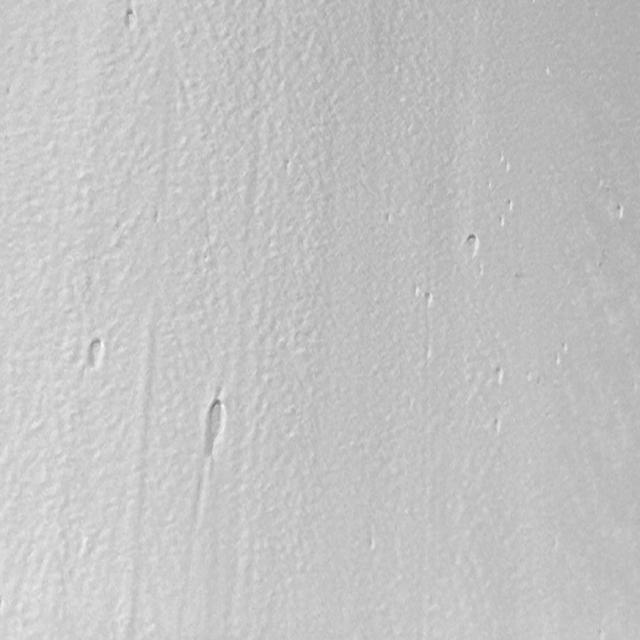pin holes: (199, 397, 230, 459), (84, 336, 108, 372), (460, 233, 480, 259), (120, 6, 139, 30), (612, 202, 627, 222), (494, 365, 507, 385), (492, 416, 506, 434), (422, 292, 434, 308), (497, 216, 508, 231), (506, 198, 516, 213)
